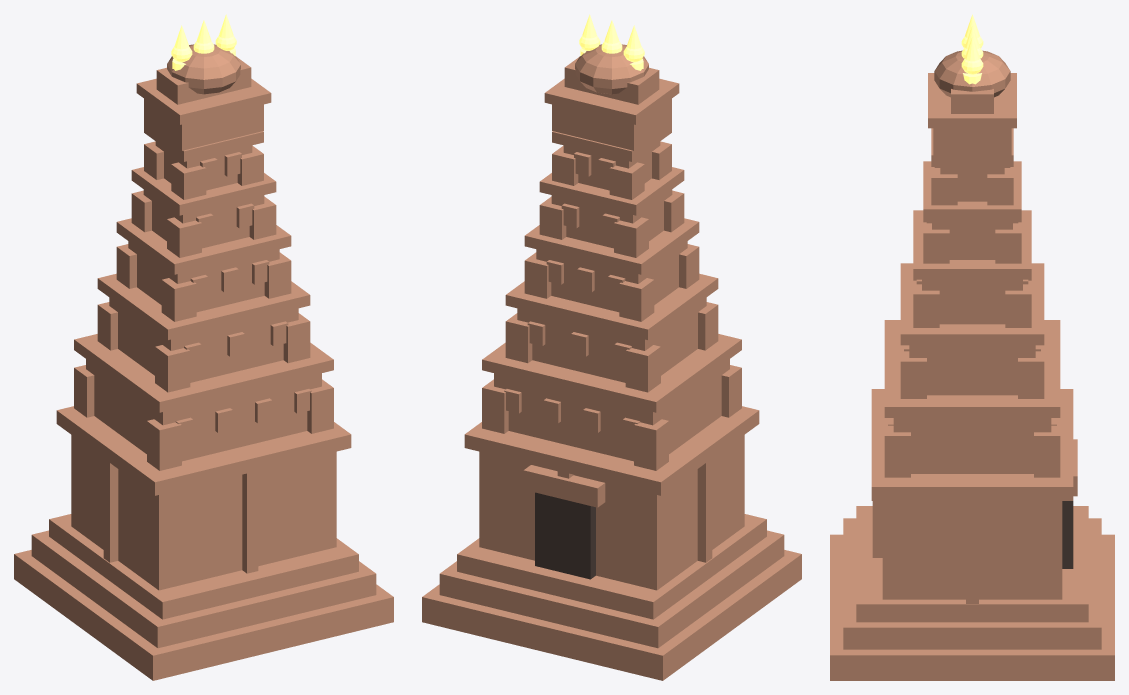
The model's file is gopuram.glb.
3 renders of one model, left to right at view 1: azimuth 30°, elevation 25°; view 2: azimuth 150°, elevation 25°; view 3: azimuth 270°, elevation 25°, orthographic. The views are drawn at different scales.
Parts seen in each view (by area): view 1: Gopuram, Kalasam; view 2: Gopuram, Doorway, Kalasam; view 3: Gopuram, Kalasam, Doorway.
Boxes of the visible parts, left/top/right/bottom form: Gopuram: left=14, top=44, right=393, bottom=680; Kalasam: left=171, top=14, right=236, bottom=70; Gopuram: left=422, top=44, right=801, bottom=680; Doorway: left=535, top=492, right=595, bottom=579; Kalasam: left=579, top=14, right=644, bottom=70; Gopuram: left=830, top=50, right=1114, bottom=680; Kalasam: left=961, top=14, right=983, bottom=84; Doorway: left=1062, top=501, right=1073, bottom=568.
Bounding box in the file's own units: 1.3 × 3 × 1.3.
